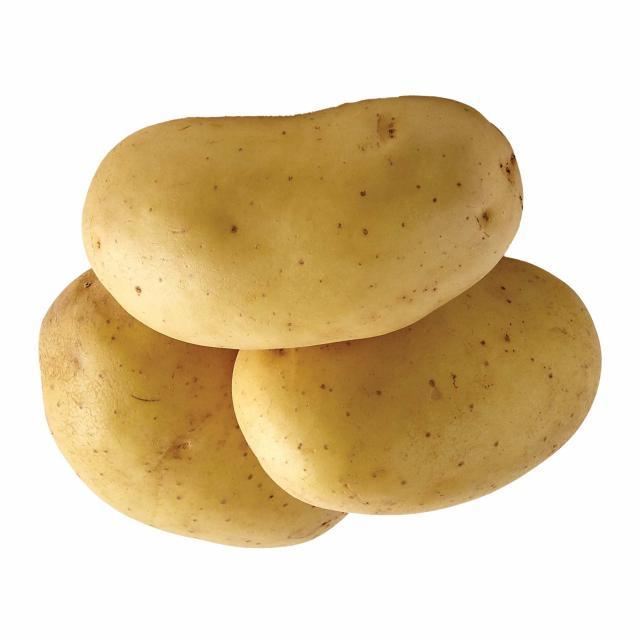potato: (81, 98, 526, 352), (233, 257, 601, 518), (42, 271, 353, 547)
